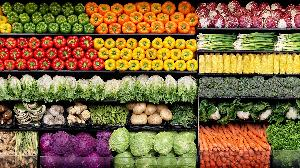bell_pepper: (87, 0, 199, 36), (0, 36, 104, 72), (94, 37, 198, 73), (0, 0, 90, 34)
carrot: (199, 120, 270, 168)
corn: (198, 52, 300, 76)
